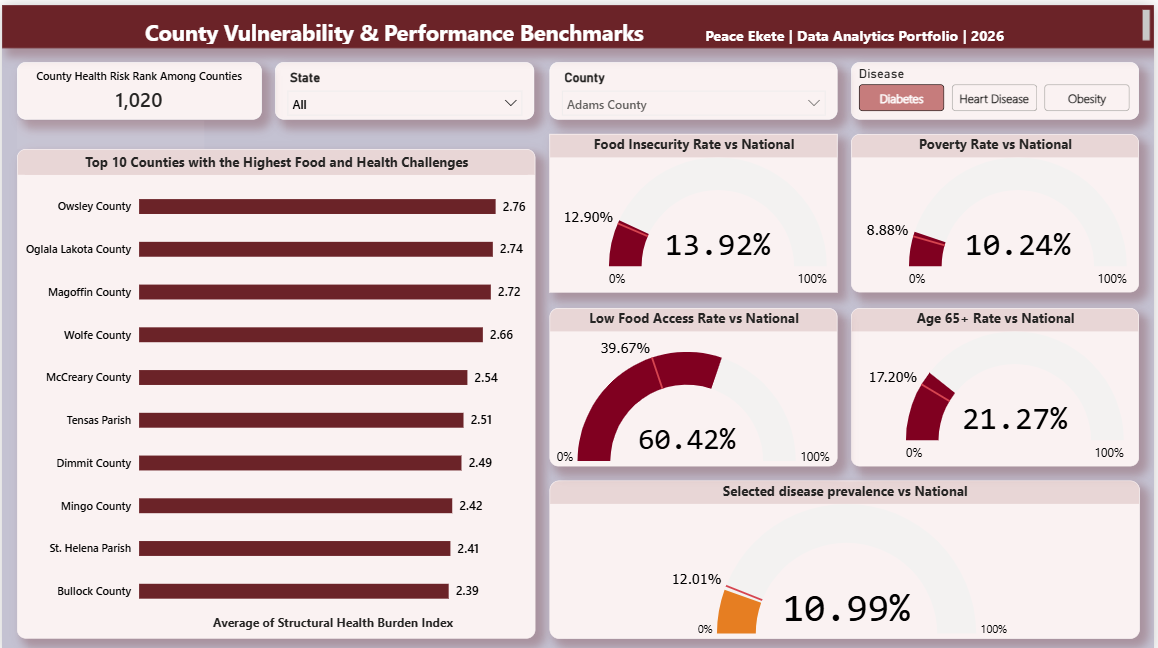

This screenshot's page, from the dashboard's own definition file:
{"tool":"powerbi","page":{"name":" Page 4_county_vulnerability","canvas":[1280,720],"ordinal":3},"visuals":[{"type":"slicer","fields":{"Values":["State_Lookup.State_Full"]},"box":[16,80,176,80],"z":0},{"type":"advancedSlicerVisual","fields":{"Values":["Slicer_Table.Outcome_Name"]},"box":[208,208,384,80],"z":1000},{"type":"slicer","fields":{"Values":["master_county_final.County"]},"box":[16,208,176,80],"z":2000},{"type":"scatterChart","title":"Social Determinants of Health Across States (with County Drill-Down)","fields":{"Y":["master_county_final.County_Outcome_Value"],"X":["Avg(master_county_final.Food_Insecurity_21_23)"],"Series":["master_county_final.Urban_Rural"],"Category":["master_county_final.State.","master_county_final.County"],"Size":["master_county_final.National poverty Rate"]},"box":[608,432,656,272],"z":3000},{"type":"cardVisual","fields":{"Data":["master_county_final.Structural_Risk_Rank"]},"box":[1008,80,256,80],"z":4000},{"type":"cardVisual","fields":{"Data":["master_county_final.Risk_Category"]},"box":[688,80,304,80],"z":5000},{"type":"cardVisual","fields":{"Data":["master_county_final.Disease_vs_National"]},"box":[208,80,240,80],"z":6000},{"type":"cardVisual","fields":{"Data":["master_county_final.Dominant_Driver"]},"box":[464,80,208,80],"z":7000},{"type":"clusteredBarChart","title":"Top 10 Counties with the Highest Food and Health Challenges","fields":{"Category":["master_county_final.County"],"Y":["Avg(master_county_final.Structural Health Burden Index)"]},"box":[16,304,576,400],"z":8000},{"type":"clusteredBarChart","title":"County Performance Relative to National Average","fields":{"Category":["County Benchmark.Metric"],"Series":["County Benchmark.Level"],"Y":["master_county_final.Benchmark_Value"]},"box":[608,176,656,240],"z":9000},{"type":"cardVisual","fields":{"Data":["COVID_FoodInsecurity_ByUrban.County Selection"]},"box":[16,160,576,48],"z":10000},{"type":"textbox","box":[0,0,1280,64],"z":11001}]}

Visuals, with their boxes in screenshot pixels (x1, y1, x2, y2), scaled from the page's 1280x720 canvas onto the 1158x648 screenshot:
slicer - State_Lookup.State_Full: [left=14, top=72, right=174, bottom=144]
advancedSlicerVisual - Slicer_Table.Outcome_Name: [left=188, top=187, right=536, bottom=259]
slicer - master_county_final.County: [left=14, top=187, right=174, bottom=259]
"Social Determinants of Health Across States (with County Drill-Down)" scatterChart: [left=550, top=389, right=1144, bottom=634]
cardVisual - master_county_final.Structural_Risk_Rank: [left=912, top=72, right=1144, bottom=144]
cardVisual - master_county_final.Risk_Category: [left=622, top=72, right=897, bottom=144]
cardVisual - master_county_final.Disease_vs_National: [left=188, top=72, right=405, bottom=144]
cardVisual - master_county_final.Dominant_Driver: [left=420, top=72, right=608, bottom=144]
"Top 10 Counties with the Highest Food and Health Challenges" clusteredBarChart: [left=14, top=274, right=536, bottom=634]
"County Performance Relative to National Average" clusteredBarChart: [left=550, top=158, right=1144, bottom=374]
cardVisual - COVID_FoodInsecurity_ByUrban.County Selection: [left=14, top=144, right=536, bottom=187]
textbox: [left=0, top=0, right=1157, bottom=58]
